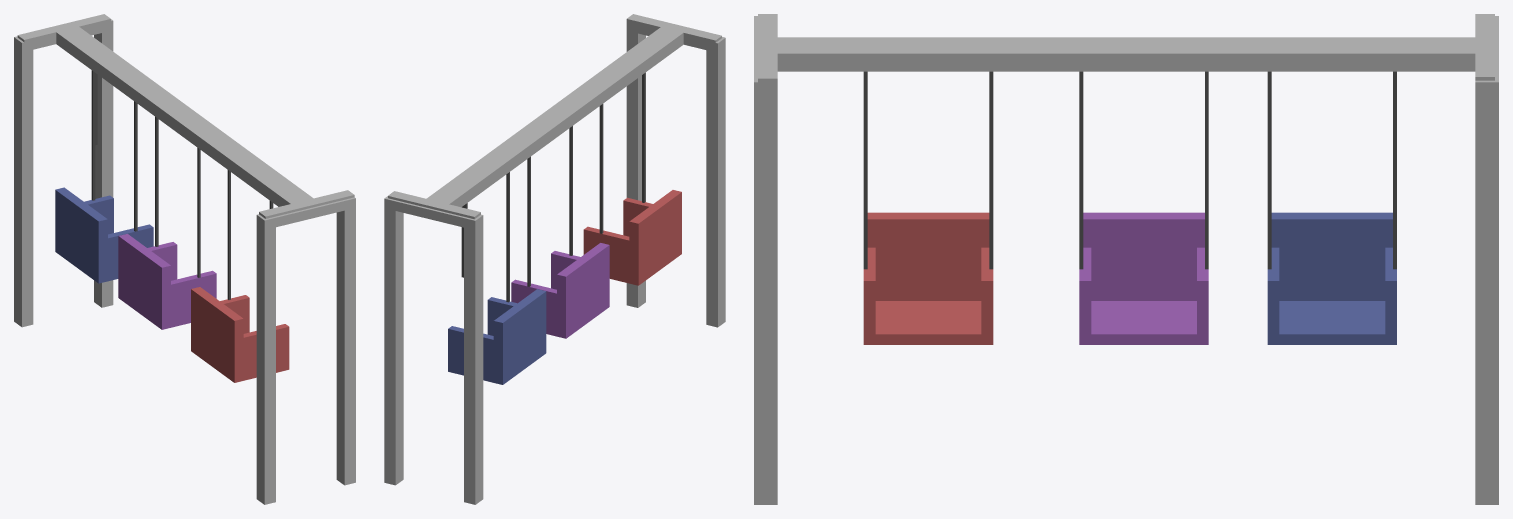
The model's file is SchoolPack-23-swing.obj.
3 renders of one model, left to right at view 1: azimuth 30°, elevation 25°; view 2: azimuth 150°, elevation 25°; view 3: azimuth 270°, elevation 25°, orthographic. The views are drawn at different scales.
Visible parts, largest first — view 1: swing; view 2: swing; view 3: swing.
Boxes of the visible parts, <box> form: swing: <box>14,14,355,504</box>; swing: <box>384,14,725,504</box>; swing: <box>754,14,1498,504</box>.
Bounding box in the file's own units: 4 × 12 × 19.
1 material, 1 textured.
